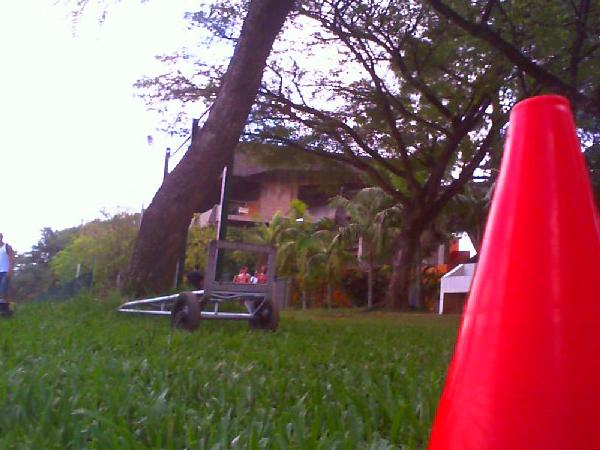0 cone: (422, 94, 600, 450)
